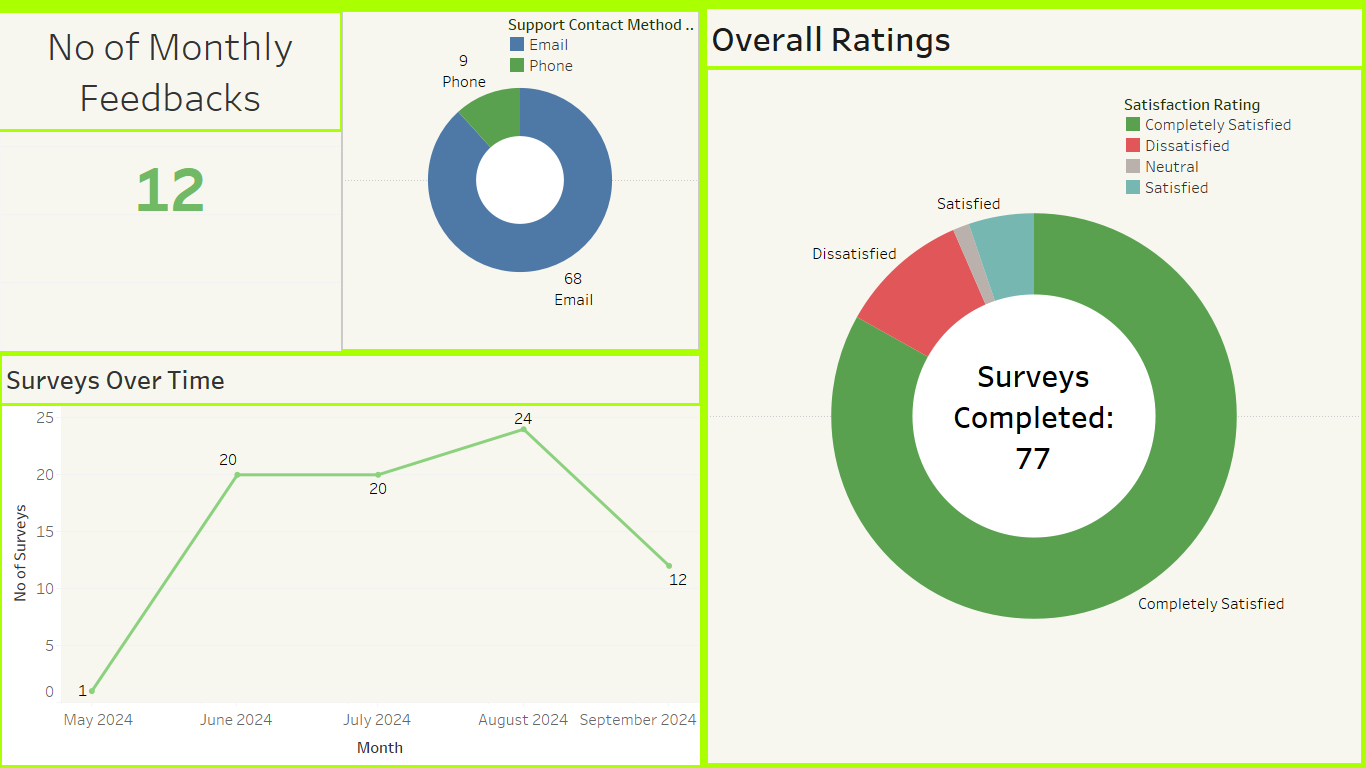

The dashboard page shown, as its layout file describes it:
{"tool":"tableau","page":{"name":"Dashboard 1","canvas":[1366,768],"ordinal":0},"visuals":[{"type":"worksheet","title":"Sheet 4","mark":"Pie","rows":["Calculation_231653970452172800","Calculation_231653970452172800"],"box":[707,9,655,755]},{"type":"worksheet","title":"Sheet 5","mark":"Pie","rows":["Calculation_231653970452172800","Calculation_231653970452172800"],"box":[342,11,357,339]},{"type":"legend","title":"Sheet 5","param":"[federated.1wo106e1h1xay119wknsd1hlwtbc].[none:Support Contact Method (Phone/Ema","box":[507,12,191,76]},{"type":"worksheet","title":"Sheet 6","mark":"Text","rows":["Overall Rating"],"box":[0,13,340,337]},{"type":"legend","title":"Sheet 4","param":"[federated.1wo106e1h1xay119wknsd1hlwtbc].[none:Satisfaction Levels:nk]","box":[1123,92,229,123]},{"type":"worksheet","title":"Sheet 8","mark":"Line","rows":["Overall Rating"],"cols":["Timestamp"],"box":[2,356,697,409]}]}

Visuals, with their boxes in screenshot pixels (x1, y1, x2, y2), scaled from the page's 1366x768 canvas onto the 1366x768 screenshot:
"Sheet 4" worksheet (Pie marks): Rect(707, 9, 1362, 764)
"Sheet 5" worksheet (Pie marks): Rect(342, 11, 699, 350)
"Sheet 5" legend: Rect(507, 12, 698, 88)
"Sheet 6" worksheet (Text marks): Rect(0, 13, 340, 350)
"Sheet 4" legend: Rect(1123, 92, 1352, 215)
"Sheet 8" worksheet (Line marks): Rect(2, 356, 699, 765)
